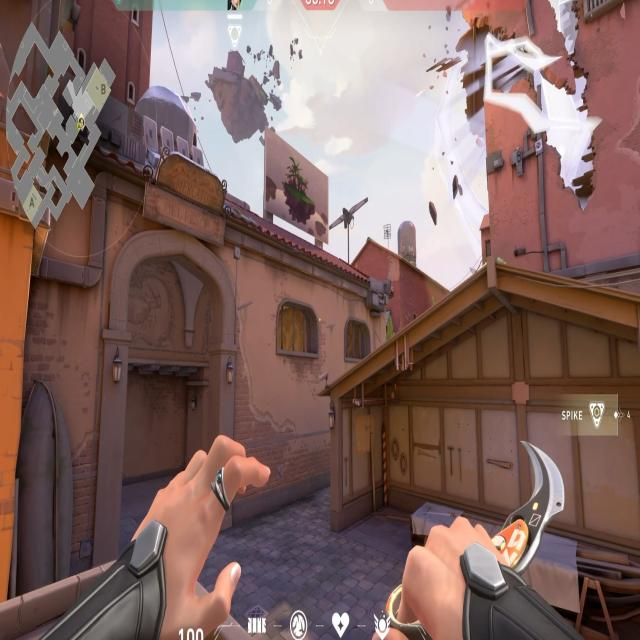B_Garage_Left: (327, 366, 443, 558)
Throwables: (274, 297, 322, 361), (343, 310, 373, 366)
